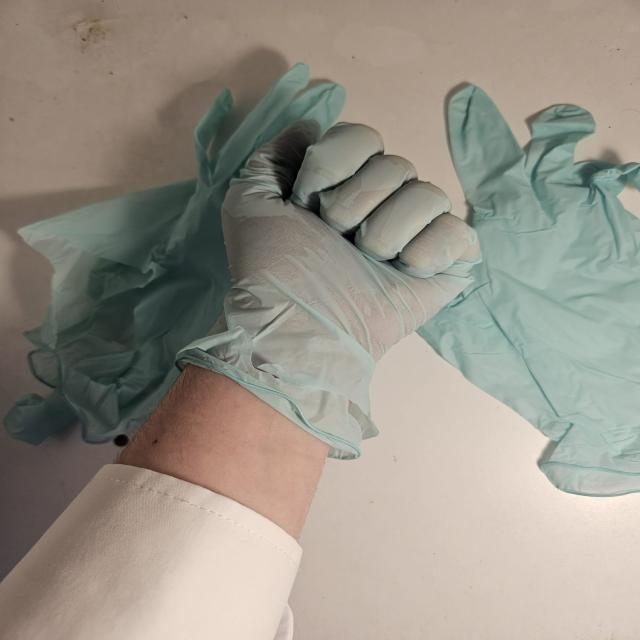gloves_damaged: (186, 114, 479, 457)
